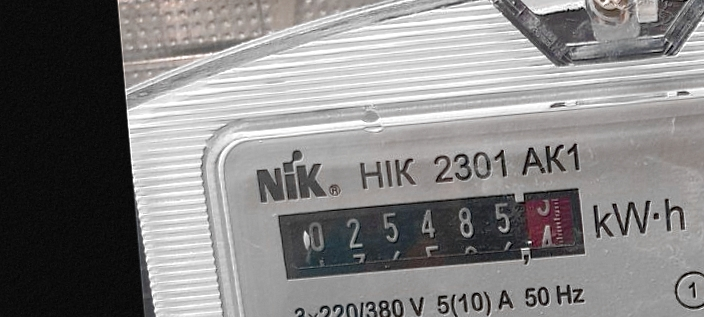0: (305, 217, 328, 254)
2: (343, 214, 366, 250)
4: (416, 205, 440, 240), (537, 221, 558, 250)
5: (491, 198, 515, 237), (379, 208, 402, 244)
8: (455, 201, 478, 241)
screen: (268, 179, 595, 292)
